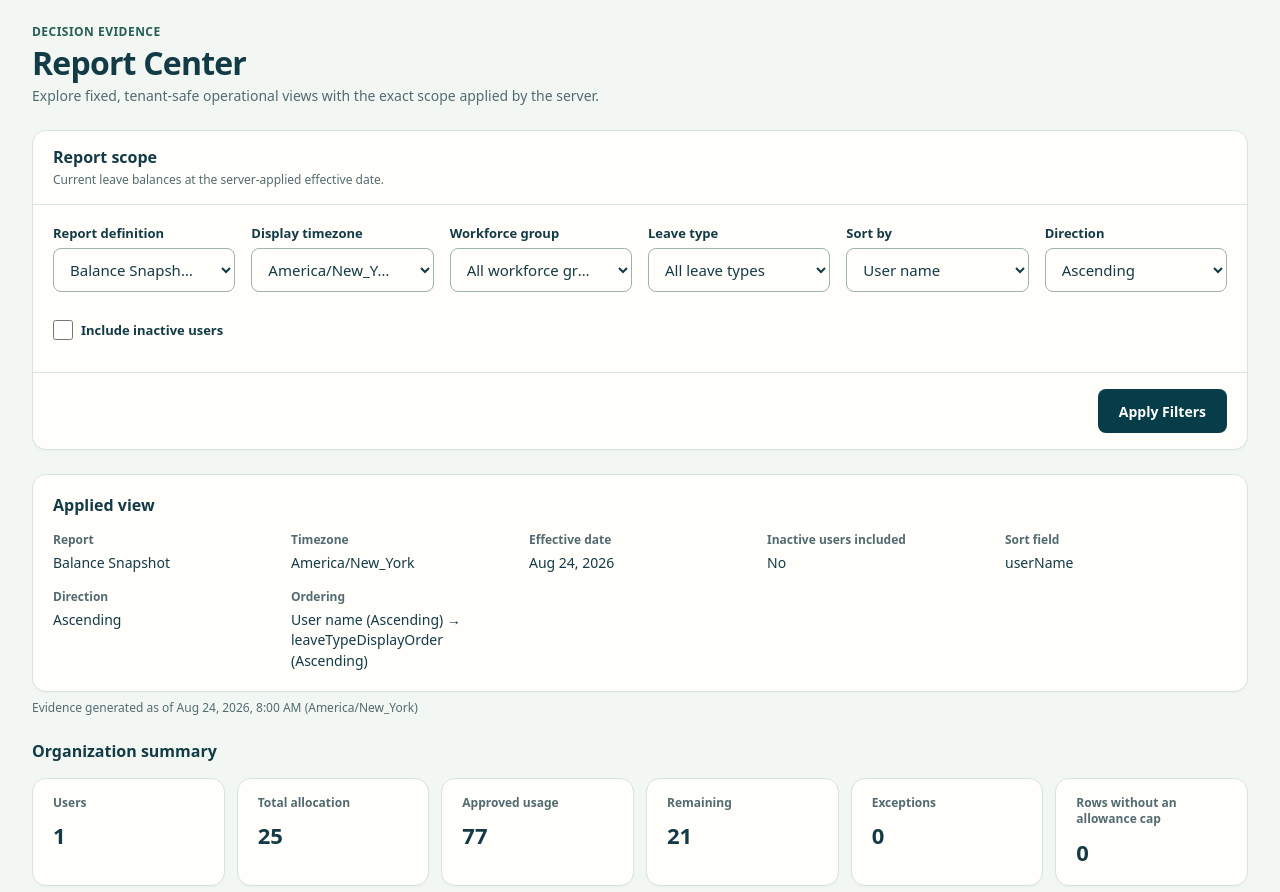
it: ReportCenterPage › [P0] renders REQUEST_DETAIL with its own columns, labels, and values
Select "Request Detail" in the dropdown labelled "Report definition": (144, 270) [53,248,235,292]
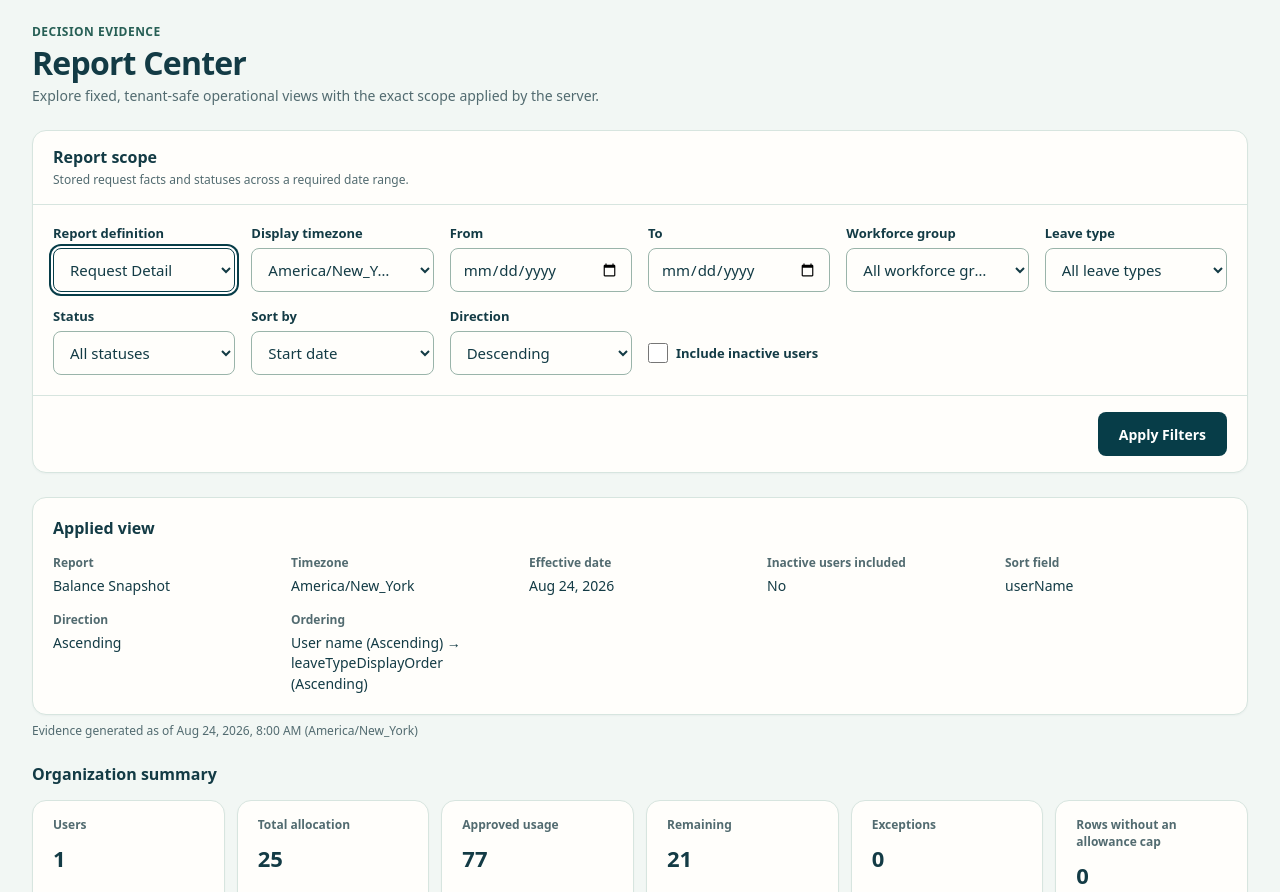
In the date field labelled "From": (541, 270) [450,248,632,292], type "2026-08-01"
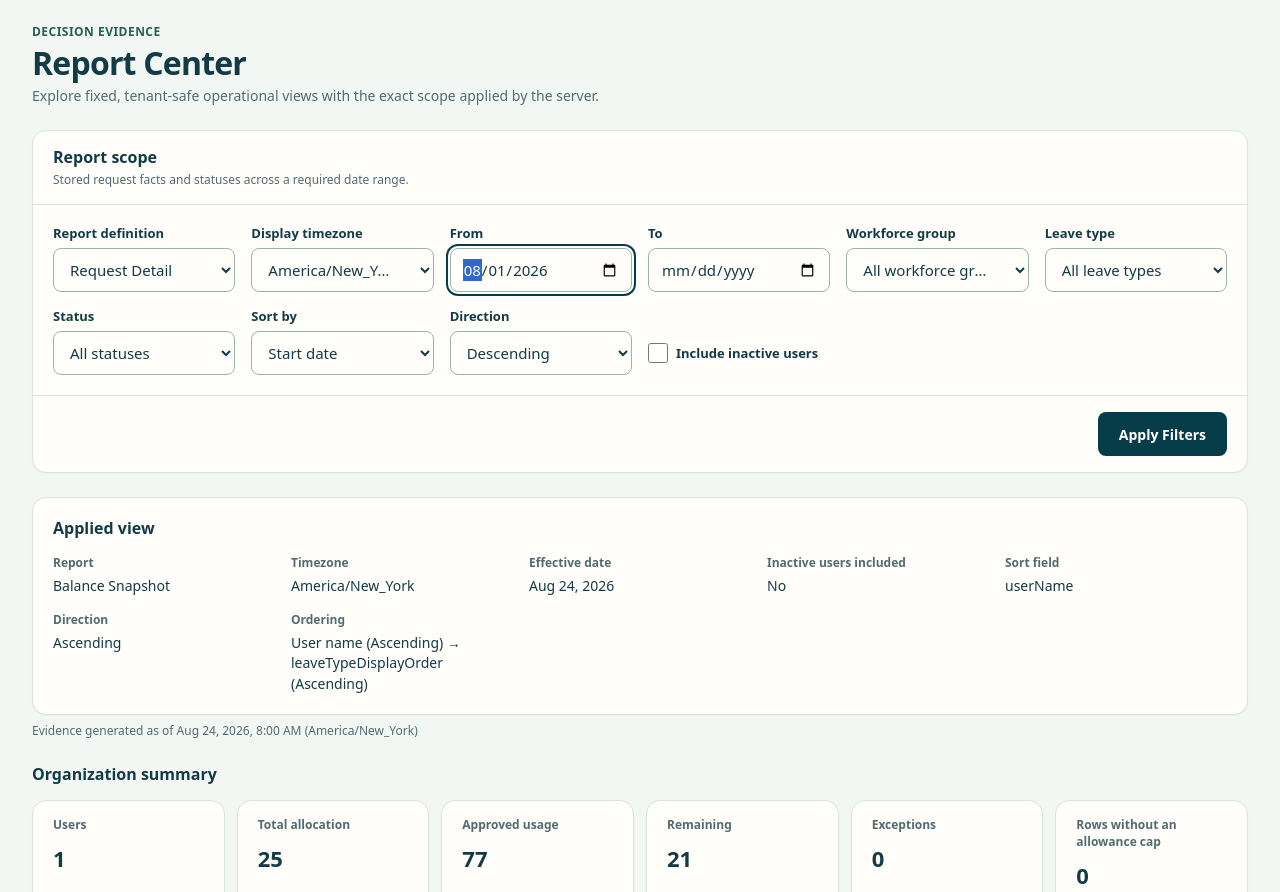
In the date field labelled "To": (739, 270) [648,248,830,292], type "2026-08-24"
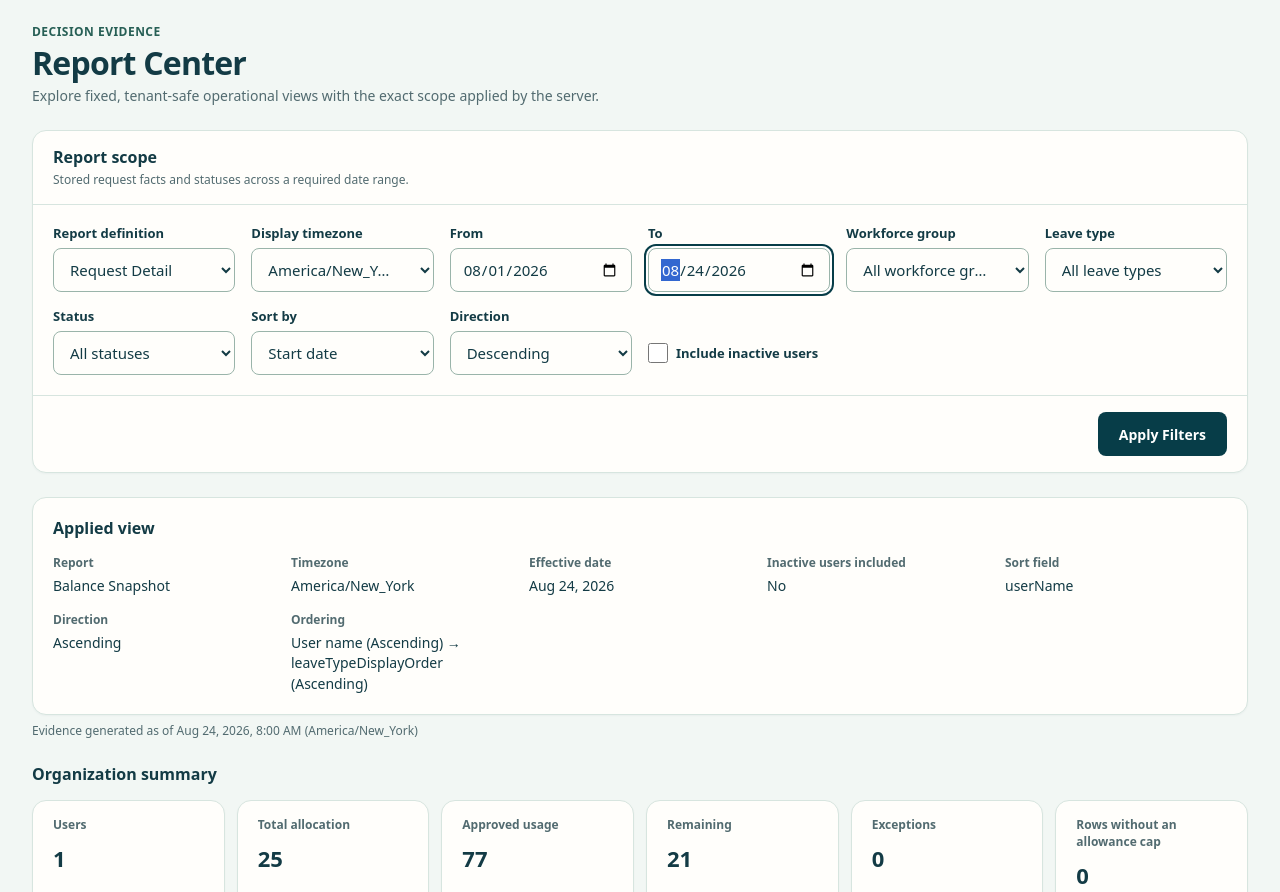
Click the button "Apply Filters": (1162, 434) [1098,412,1227,456]
(page scrolled)
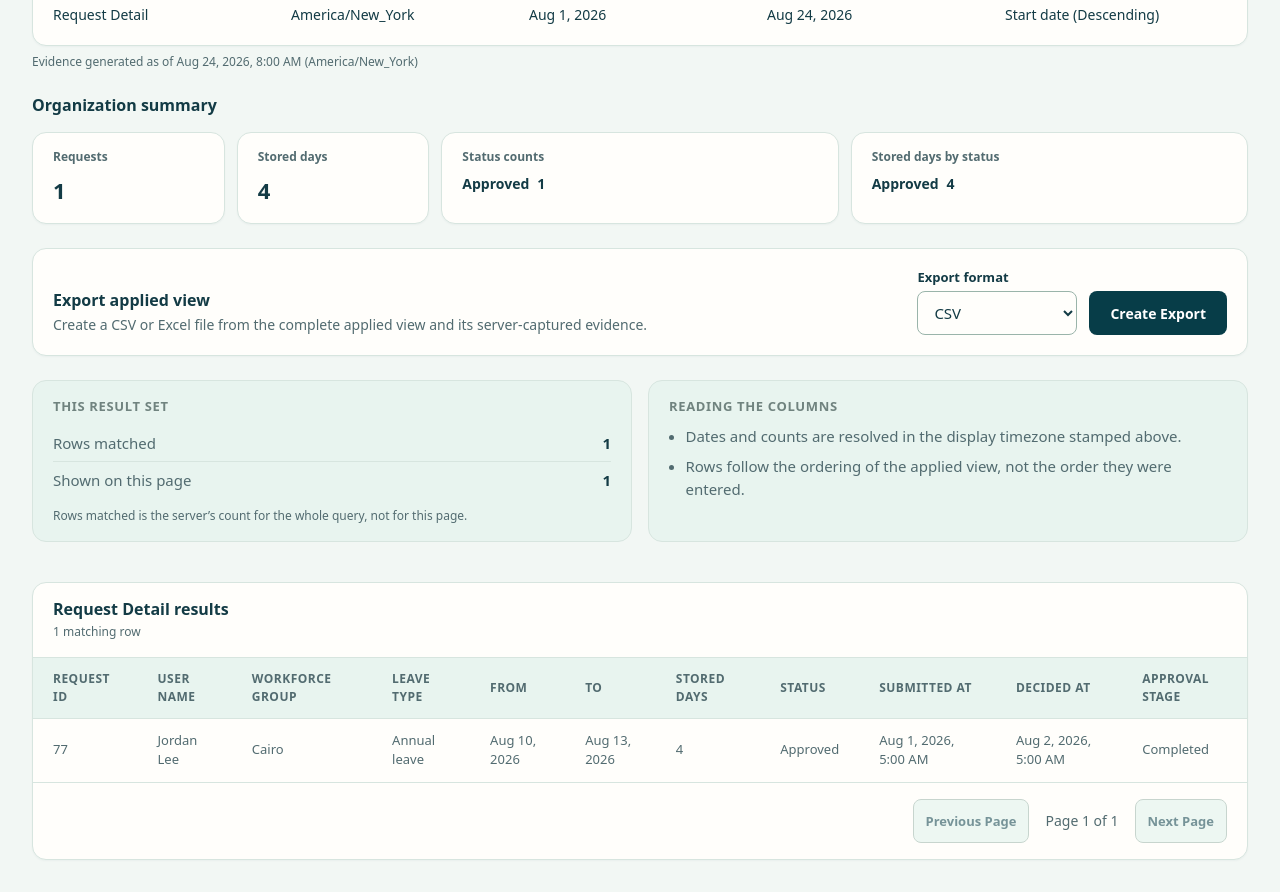
Check: the cell does not show ""
Check: the column heading "Decided at" is shown, box [996,658,1122,718]
Check: the row with test id "report-row-0" shows "Approved", box [780,740,839,758]
